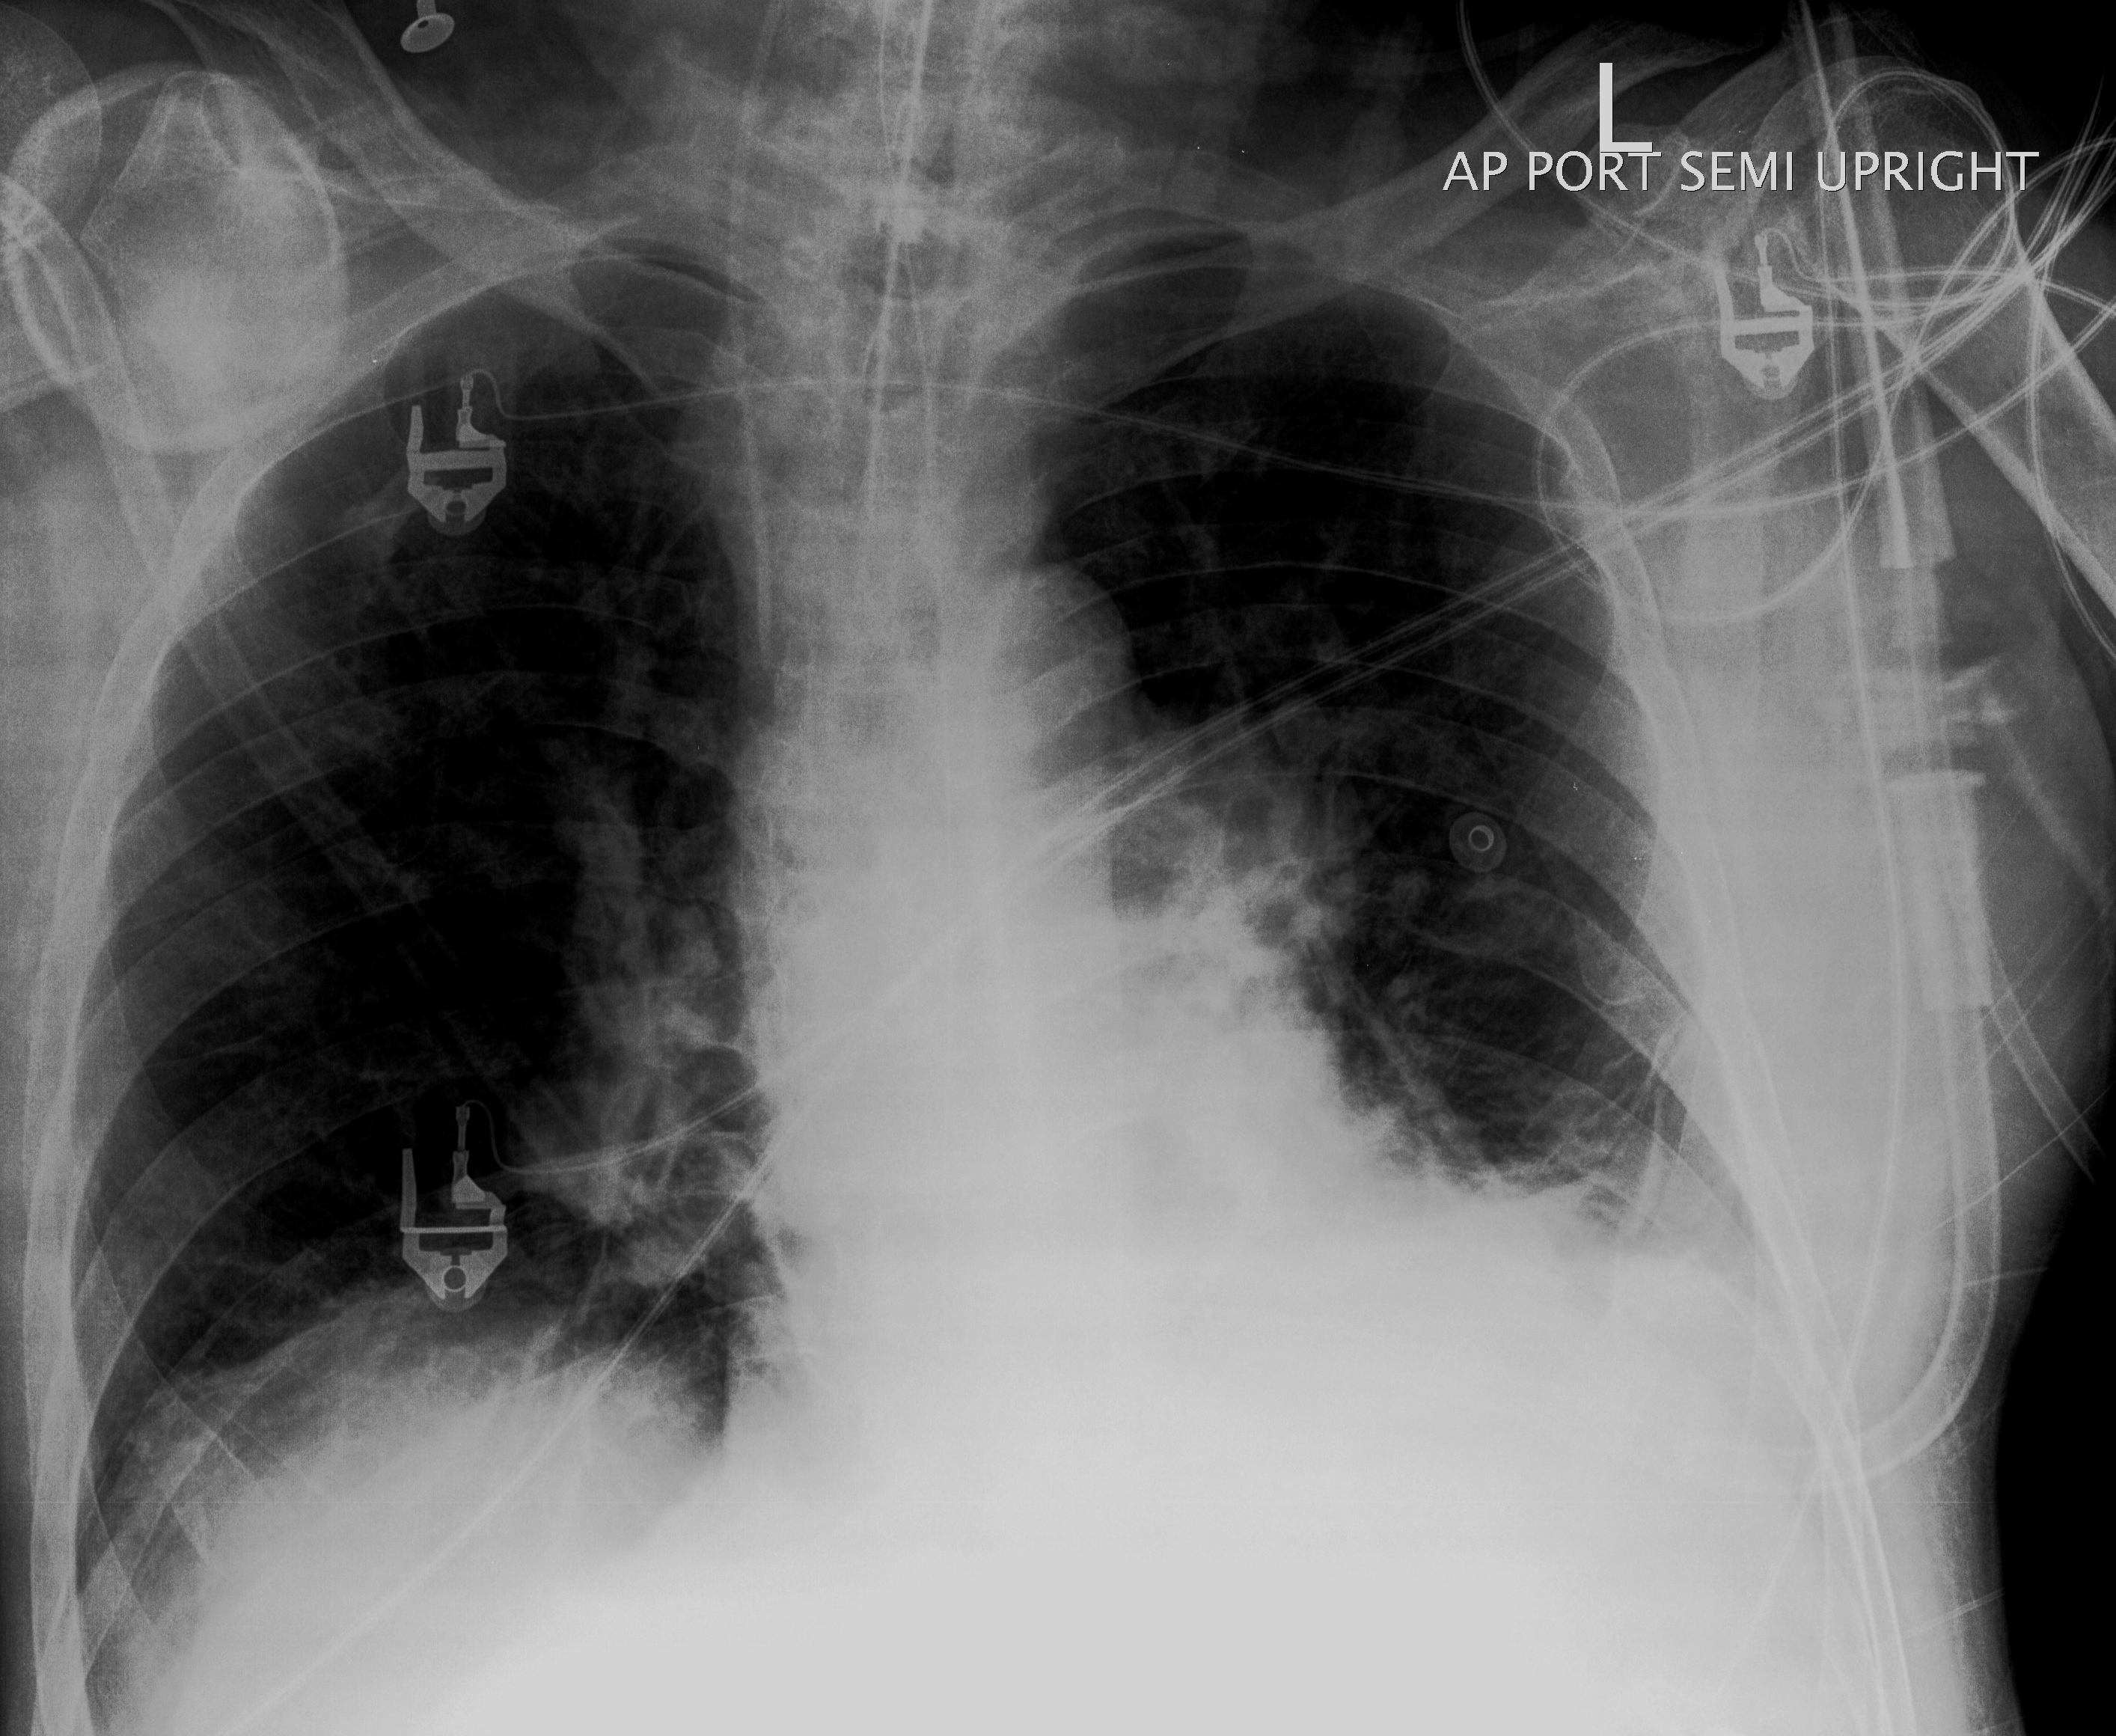Pleural Effusion: (1432, 1140, 1833, 1683)
